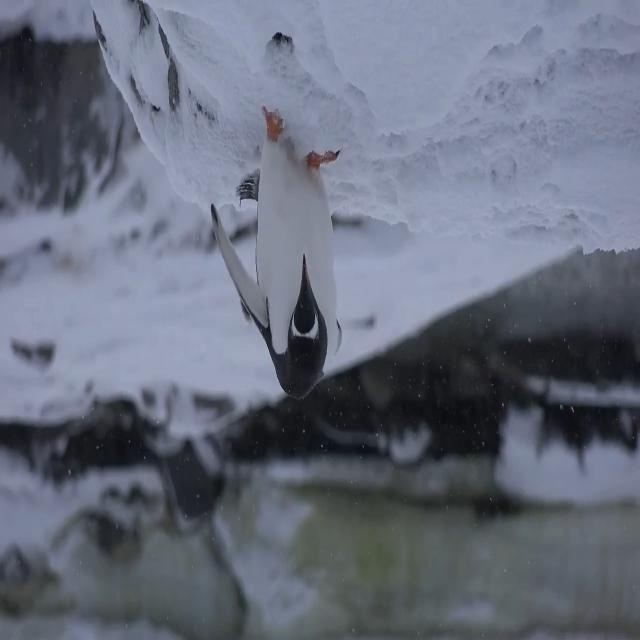penguin: (208, 106, 342, 398)
